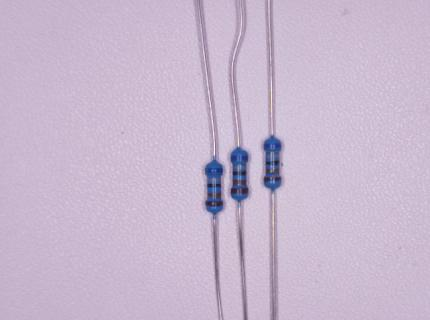Black band: (266, 160, 280, 166), (207, 183, 221, 188), (233, 171, 247, 176)
Blue band: (231, 155, 248, 162), (263, 143, 282, 148), (205, 168, 223, 173)
Brown band: (264, 176, 281, 183), (230, 188, 249, 194), (205, 200, 223, 206)
Grey band: (207, 178, 221, 182), (233, 165, 247, 169), (266, 154, 280, 158)
Orange band: (265, 167, 279, 174), (207, 192, 221, 198), (232, 180, 247, 185)
